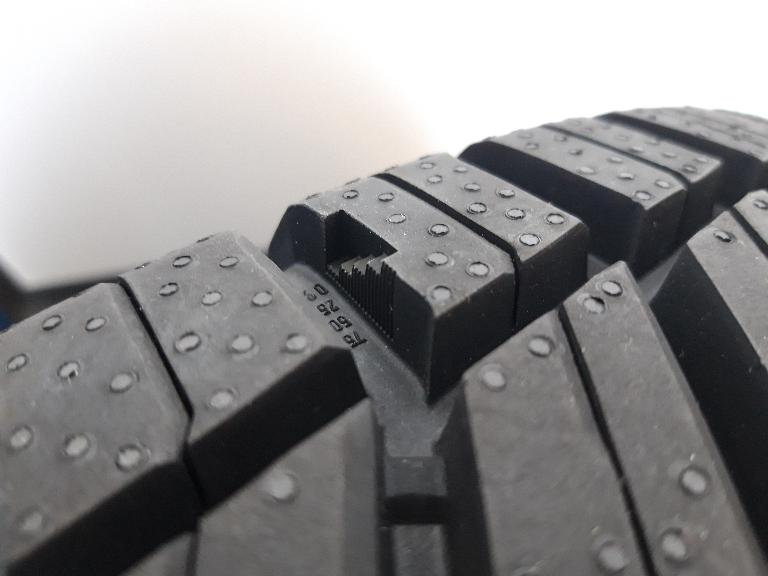temoin:100: (322, 208, 402, 345)
